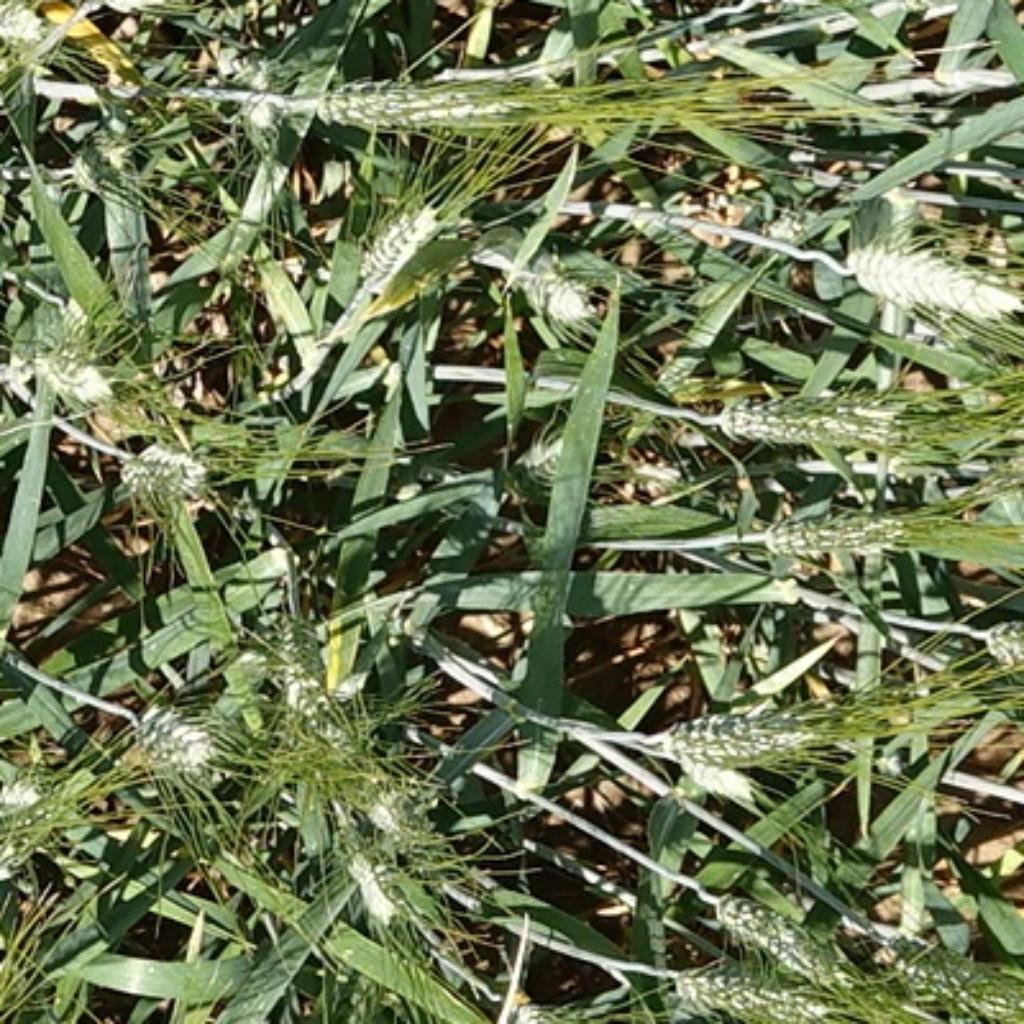0-0: (337, 56, 599, 145), (705, 376, 935, 458), (647, 686, 837, 780), (843, 244, 1024, 334), (860, 916, 1021, 1013), (1, 283, 113, 419), (499, 240, 627, 345), (506, 404, 634, 506), (256, 593, 353, 724), (660, 944, 834, 1016), (696, 880, 837, 967), (343, 179, 453, 289), (747, 494, 916, 565), (0, 760, 69, 898), (46, 133, 140, 232), (122, 691, 220, 778), (114, 436, 221, 510), (340, 842, 417, 926), (232, 89, 307, 158), (0, 0, 56, 87), (363, 780, 427, 839), (972, 601, 1021, 673)
